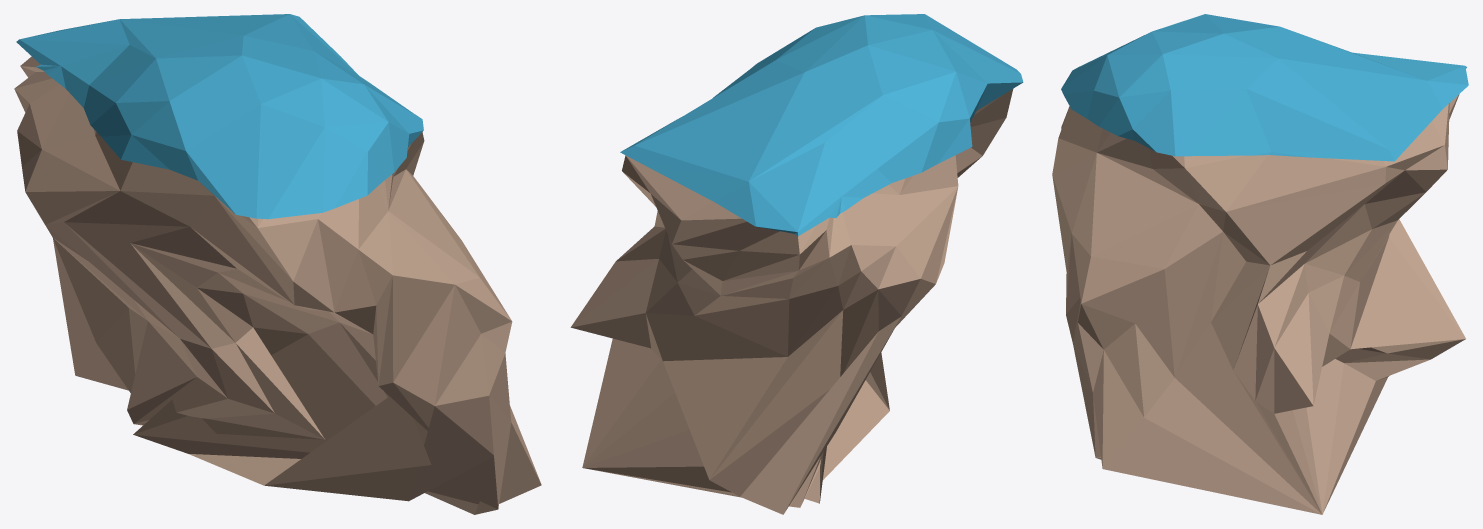
Rendered from ROCK_TEST.fbx.
3 views of the same model, side by side, from view 1: azimuth 30°, elevation 25°; view 2: azimuth 150°, elevation 25°; view 3: azimuth 270°, elevation 25° (orthographic). The views are drawn at different scales.
Visible parts, largest first — view 1: Rock_1; view 2: Rock_1; view 3: Rock_1.
Boxes of the visible parts, x1,y1,x2,y2 form: Rock_1: (14,14,541,514); Rock_1: (570,14,1023,514); Rock_1: (1052,14,1468,514).
Bounding box in the file's own units: 723 × 811 × 799.
